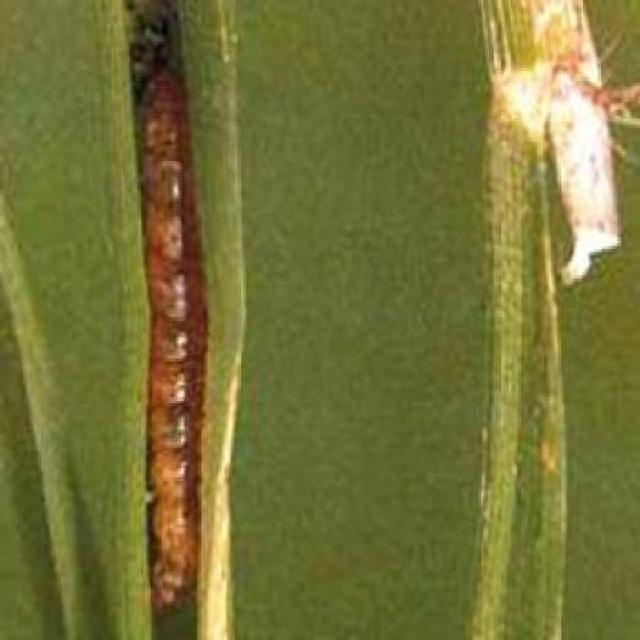leaf-folder: (106, 60, 259, 603)
